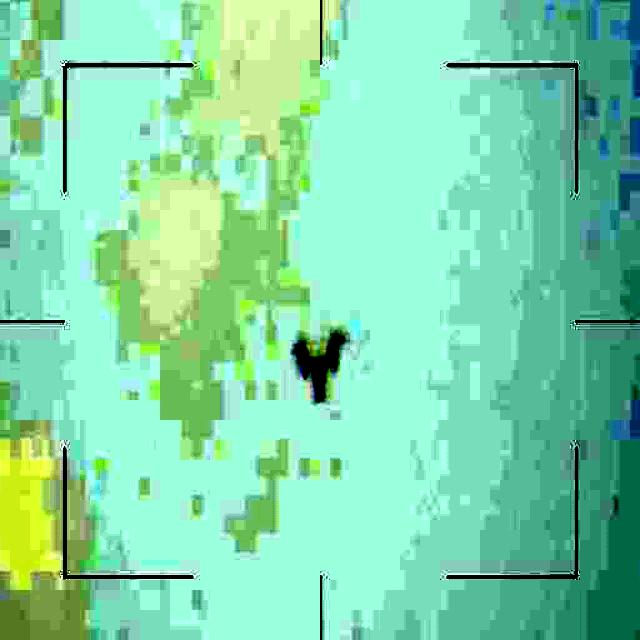bird: (296, 318, 350, 399)
